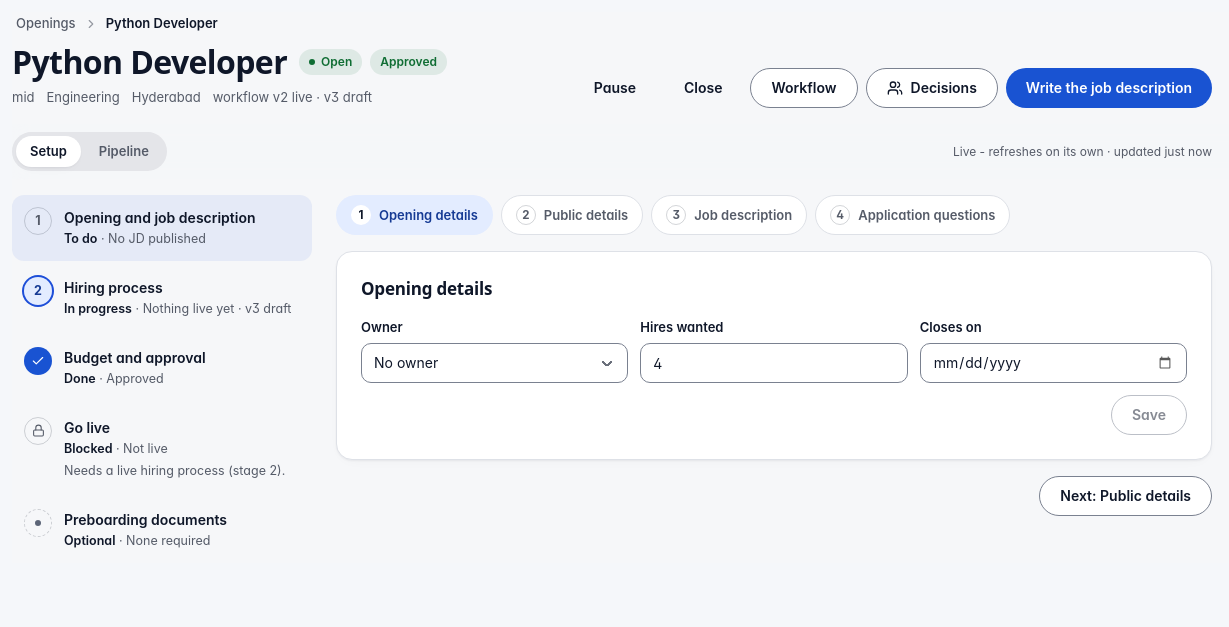
Test: the per-opening dashboard (E1) › warns that the public link waits for a published workflow
The image size is (1229, 627).
Click the button "Go live".
click(162, 449)  # box [12, 404, 312, 493]
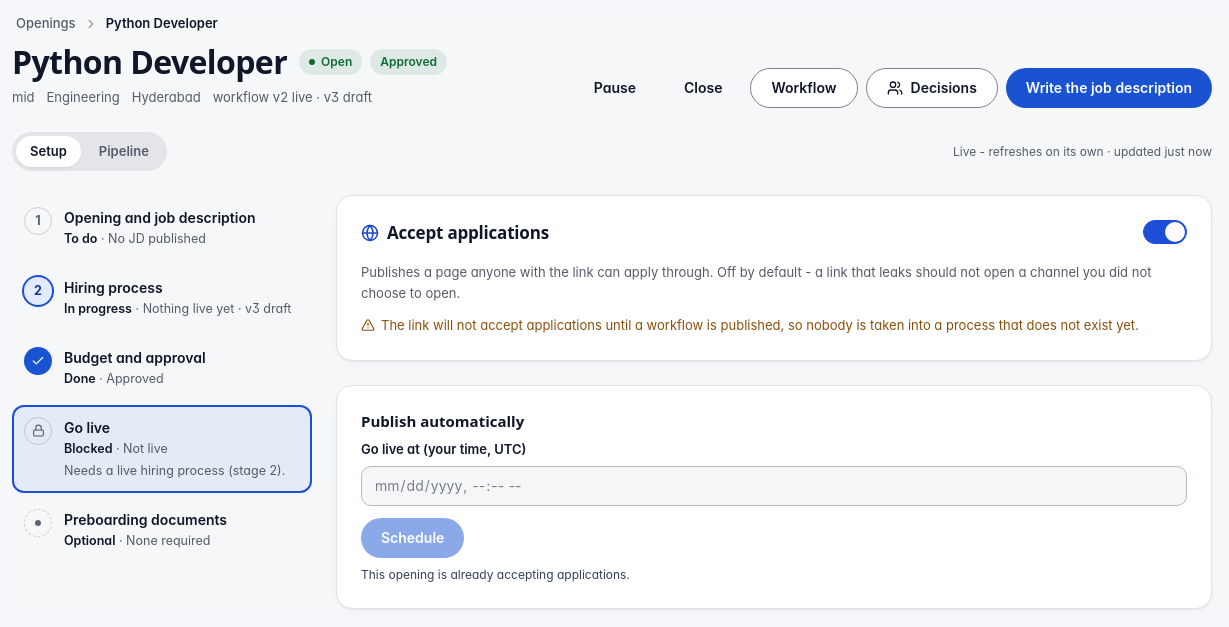
Now the element with test id "apply-needs-workflow" shows "until a workflow is published", box [381, 317, 1139, 333]
